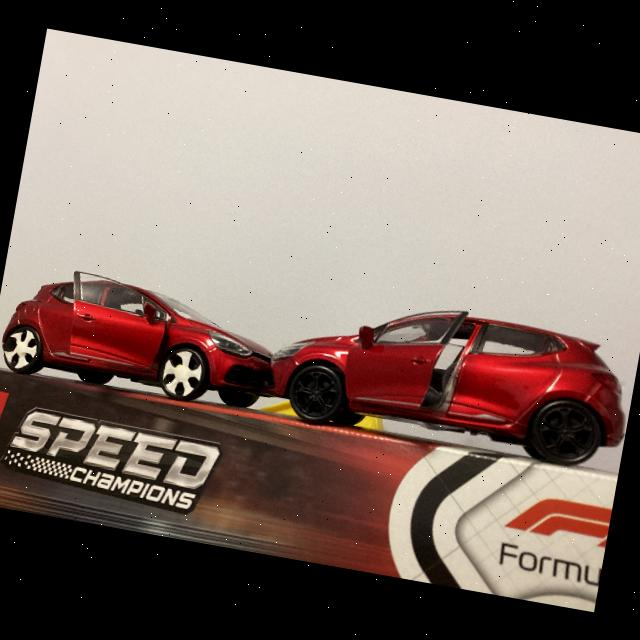Dogru_Jant: (522, 394, 605, 468), (292, 368, 339, 417)
Yanlis_Jant: (157, 346, 205, 400), (0, 325, 42, 372)
